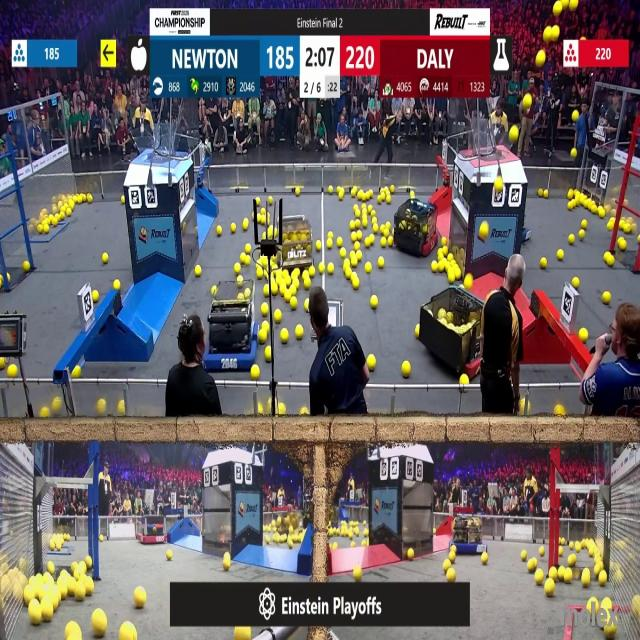ball_airborne: (478, 220, 489, 241), (552, 0, 564, 18), (508, 124, 518, 143), (536, 49, 546, 68), (550, 24, 560, 41), (523, 92, 532, 110), (464, 273, 473, 290), (494, 176, 503, 192), (568, 0, 578, 11), (543, 27, 550, 42), (572, 109, 578, 122), (560, 0, 568, 9), (571, 148, 576, 156)
ball_ground: (91, 608, 107, 637), (28, 598, 42, 625), (40, 595, 54, 621), (118, 620, 137, 639), (65, 621, 82, 639), (134, 586, 146, 608), (56, 575, 67, 598), (24, 584, 36, 605), (50, 585, 60, 610), (38, 583, 50, 603), (586, 596, 599, 614), (604, 622, 617, 639), (76, 578, 86, 600), (66, 574, 76, 596), (84, 574, 94, 595), (544, 577, 555, 596), (234, 627, 251, 639), (52, 396, 64, 412), (366, 353, 376, 372), (401, 360, 411, 378), (350, 271, 359, 290), (581, 568, 590, 587), (96, 398, 106, 415), (352, 564, 362, 581), (250, 364, 260, 380), (534, 568, 544, 584), (598, 569, 607, 586), (578, 327, 588, 342), (295, 324, 304, 340), (7, 364, 18, 377), (289, 279, 298, 294), (446, 567, 455, 582), (600, 597, 612, 608), (601, 291, 611, 304), (278, 280, 286, 296), (564, 567, 572, 583), (71, 364, 80, 378), (617, 237, 626, 251), (280, 328, 288, 343), (274, 308, 282, 323), (260, 301, 268, 316), (370, 294, 378, 309), (459, 372, 469, 384), (594, 563, 602, 578), (571, 276, 580, 289), (258, 329, 266, 343), (290, 295, 298, 309), (303, 276, 311, 290), (47, 561, 55, 575), (568, 553, 576, 567), (40, 406, 50, 417), (264, 346, 271, 361), (278, 401, 286, 414), (364, 261, 372, 274), (597, 205, 605, 218), (606, 217, 614, 230), (74, 567, 82, 580), (442, 559, 450, 572), (554, 404, 564, 414), (606, 255, 615, 266), (118, 400, 125, 414), (42, 220, 49, 234), (256, 264, 263, 278), (284, 288, 291, 302), (275, 271, 282, 285), (194, 264, 202, 276), (326, 262, 334, 274), (556, 248, 564, 260), (84, 556, 92, 568), (78, 560, 86, 572), (549, 567, 557, 579), (242, 217, 249, 230), (350, 254, 357, 267), (441, 245, 448, 258), (527, 559, 534, 572), (448, 269, 454, 284), (558, 564, 564, 579), (444, 260, 452, 271), (519, 397, 524, 414), (284, 271, 290, 285), (377, 256, 384, 268), (414, 324, 420, 338), (430, 260, 437, 272), (540, 256, 547, 268), (244, 253, 251, 265), (22, 260, 30, 270), (316, 240, 324, 250), (448, 552, 456, 562), (234, 262, 240, 275), (362, 215, 368, 228), (482, 551, 488, 564), (593, 546, 599, 559), (343, 258, 350, 269), (92, 290, 98, 302), (44, 215, 52, 224), (216, 224, 222, 236), (244, 243, 252, 252), (258, 401, 264, 413), (263, 284, 269, 296), (272, 283, 278, 295), (318, 261, 324, 273), (309, 265, 315, 277), (292, 267, 300, 276), (326, 237, 332, 249), (382, 188, 388, 200), (438, 260, 444, 272), (580, 219, 588, 228), (240, 252, 246, 264), (0, 356, 5, 370), (262, 320, 269, 330), (344, 268, 351, 278), (603, 251, 610, 261), (568, 234, 575, 244), (520, 550, 527, 560), (102, 252, 108, 263), (52, 215, 58, 226), (230, 222, 236, 233), (340, 247, 346, 258), (356, 249, 362, 260), (364, 236, 370, 247), (455, 267, 461, 278), (588, 198, 594, 209), (72, 561, 78, 572), (407, 548, 413, 559), (236, 275, 243, 284), (299, 406, 308, 413), (567, 201, 574, 210), (623, 223, 630, 232), (582, 199, 589, 208), (43, 223, 49, 233), (302, 269, 308, 279), (336, 236, 342, 246), (350, 231, 356, 241), (380, 237, 386, 247), (354, 207, 360, 217), (350, 186, 356, 196), (437, 248, 442, 260), (578, 229, 584, 239), (567, 188, 573, 198), (580, 194, 586, 204), (268, 227, 274, 237), (166, 549, 172, 559), (224, 560, 230, 570), (55, 540, 61, 550), (574, 189, 581, 197), (69, 200, 74, 211), (369, 233, 374, 244), (380, 222, 385, 233), (532, 557, 537, 568), (114, 279, 120, 288), (78, 194, 84, 203), (60, 204, 66, 213), (354, 241, 360, 250), (354, 219, 360, 228), (356, 230, 362, 239), (372, 223, 378, 232), (362, 192, 368, 201), (366, 189, 372, 198), (304, 298, 308, 311), (386, 194, 391, 204), (539, 546, 544, 556), (447, 252, 453, 260), (590, 204, 596, 212), (60, 569, 68, 575), (588, 548, 594, 556), (87, 194, 92, 203), (295, 187, 300, 196), (349, 220, 354, 229), (349, 249, 354, 258), (388, 236, 393, 245), (357, 190, 362, 199), (377, 194, 382, 203), (442, 236, 447, 245), (575, 542, 580, 551), (66, 209, 72, 216), (370, 209, 376, 216), (224, 552, 230, 559), (64, 533, 70, 540), (37, 224, 42, 232), (81, 194, 86, 202), (48, 214, 53, 222), (268, 196, 273, 204), (260, 207, 265, 215), (338, 192, 343, 200), (372, 215, 377, 223), (543, 189, 548, 197), (558, 547, 563, 555), (582, 539, 587, 547), (354, 526, 358, 536), (74, 194, 78, 203), (368, 204, 372, 213), (390, 184, 394, 193), (50, 539, 54, 548), (560, 538, 566, 544), (348, 530, 352, 539), (328, 230, 333, 237), (353, 204, 358, 211), (384, 186, 389, 193), (60, 212, 64, 220), (256, 196, 260, 204), (328, 185, 332, 193), (384, 228, 388, 236), (362, 204, 366, 212), (538, 188, 542, 196), (574, 197, 578, 205), (288, 540, 292, 548), (569, 540, 573, 548), (588, 538, 594, 543), (361, 539, 366, 545), (262, 231, 266, 238), (386, 221, 390, 228), (364, 528, 368, 535), (379, 187, 384, 192), (99, 534, 103, 540), (351, 541, 355, 547), (121, 196, 124, 203), (433, 527, 436, 533), (364, 519, 367, 524), (372, 211, 374, 212)
goal: (127, 124, 185, 158), (468, 116, 519, 154)
robot_blue: (205, 276, 259, 370), (277, 217, 314, 271), (452, 514, 486, 556)
robot_red: (419, 284, 484, 378), (394, 199, 440, 255), (137, 514, 167, 546)
